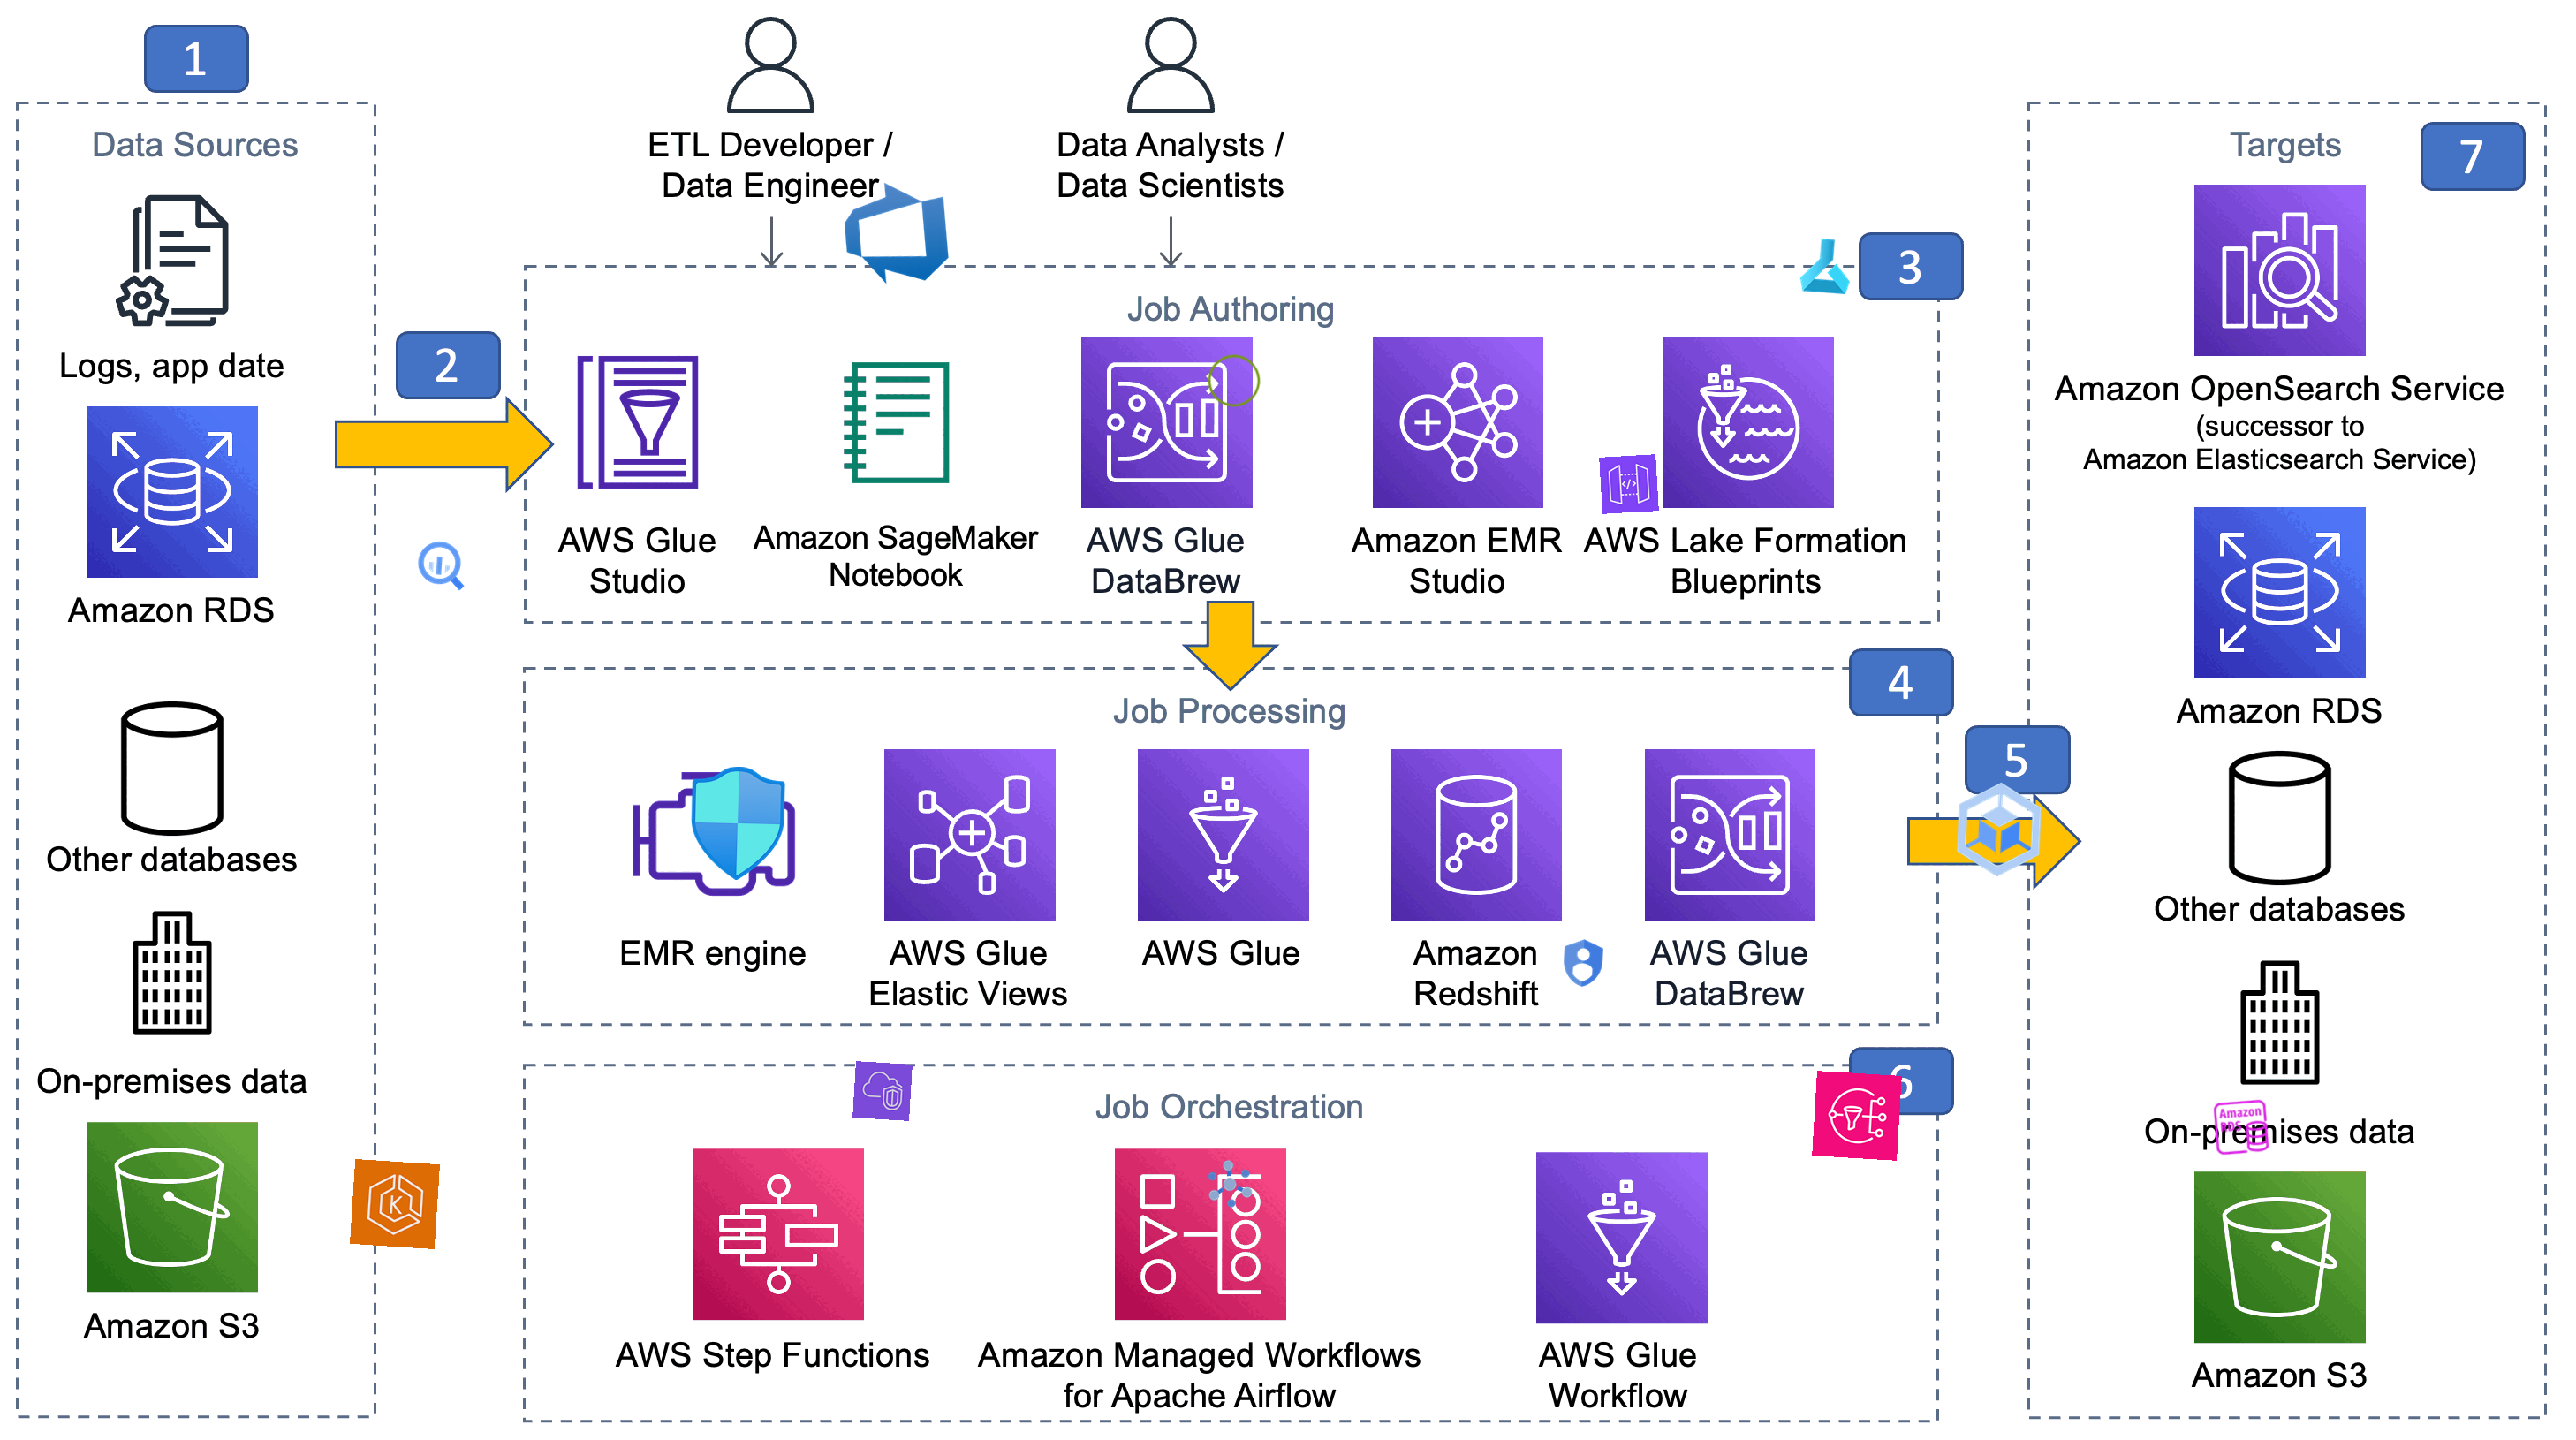aws_amazon_api_gateway: (1599, 455, 1660, 515)
aws_amazon_elastic_kubernetes_service: (349, 1159, 441, 1251)
aws_amazon_simple_notification_service: (1812, 1070, 1902, 1160)
aws_amazon_virtual_private_cloud: (853, 1061, 913, 1122)
aws_aurora_amazon_rds_instance: (2210, 1097, 2272, 1159)
aws_simple_storage_service_object: (1203, 350, 1265, 412)
azure_devops: (833, 170, 957, 294)
azure_machine_learning: (1796, 235, 1858, 297)
azure_network_security_groups: (679, 764, 796, 881)
gcp_bigquery: (410, 534, 472, 596)
gcp_google_kubernetes_engine: (1939, 770, 2058, 888)
gcp_identity_and_access_management: (1553, 932, 1614, 992)
gcp_pubsub: (1200, 1153, 1261, 1215)
